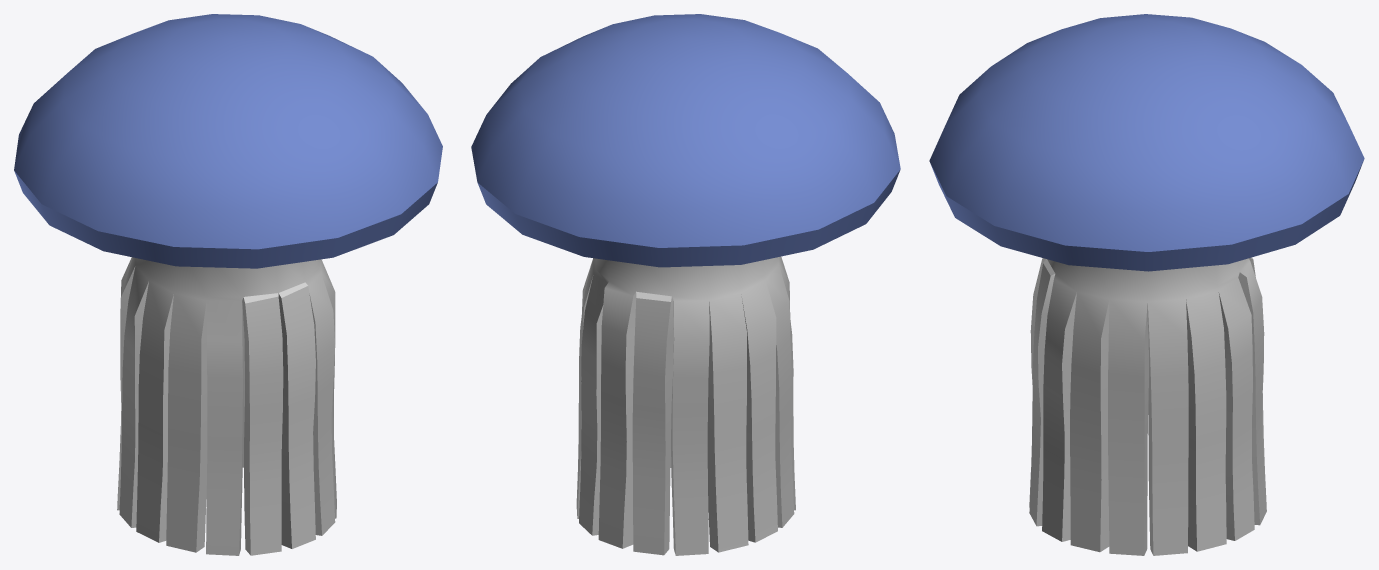
Rendered from kwal3.fbx.
3 views of the same model, side by side, from view 1: azimuth 30°, elevation 25°; view 2: azimuth 150°, elevation 25°; view 3: azimuth 270°, elevation 25° (orthographic).
Visible parts, largest first — view 1: Sphere; view 2: Sphere; view 3: Sphere.
Part boxes in pixels (<box>): Sphere: <box>14,14,442,555</box>; Sphere: <box>471,14,900,555</box>; Sphere: <box>929,14,1364,555</box>.
Size of the model in its own units: 123 by 147 by 123.
